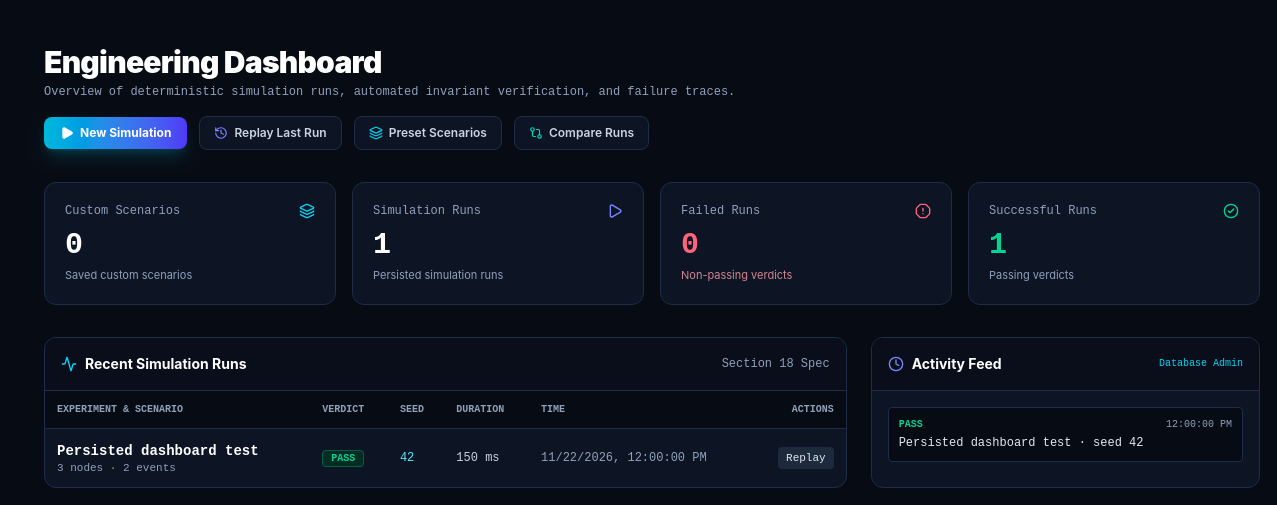
Scenario: Dashboard › renders persisted metrics and navigates to the selected run replay
Expected: the text "Persisted dashboard test" is shown, [57,443,259,459]
Expected: the text "150 ms" is shown, [444,428,529,488]
Click the button "Replay" at (806, 458), box [778,447,834,470]
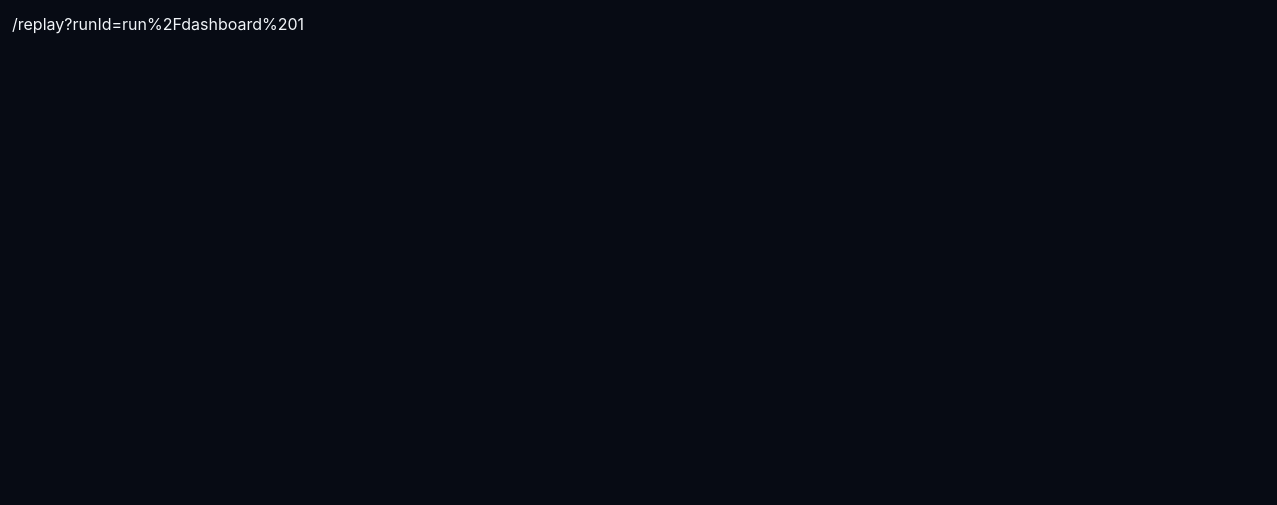
Result: the text with test id "location" reads "/replay?runId=run%2Fdashboard%201" at [12,14,304,34]
